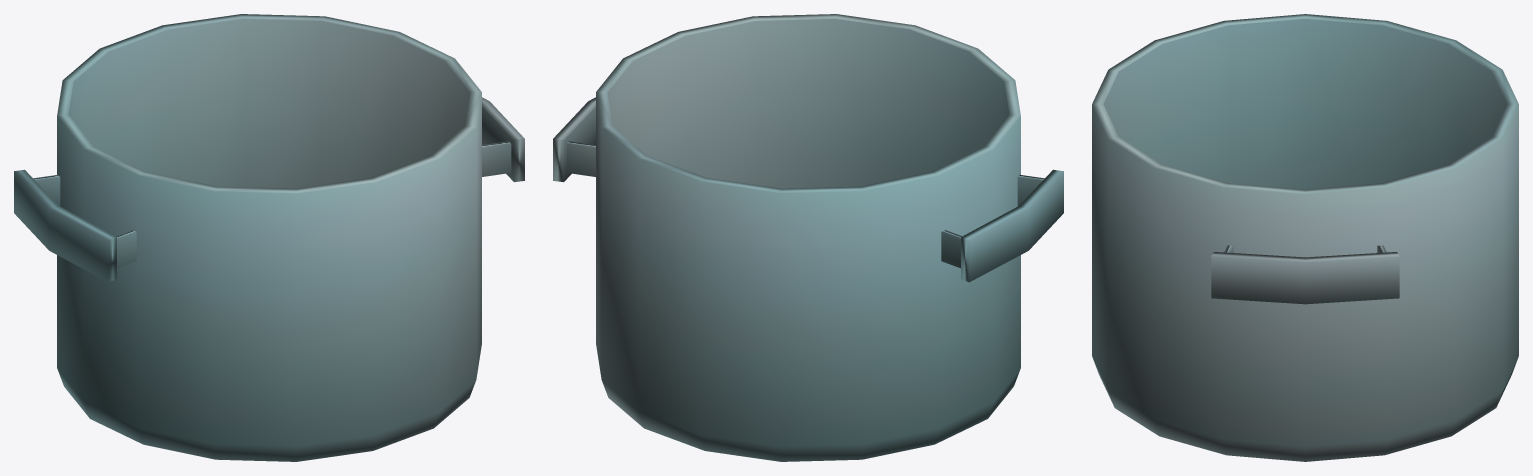
The model's file is pot.fbx.
The picture shows the model from 3 angles, left to right: view 1: azimuth 30°, elevation 25°; view 2: azimuth 150°, elevation 25°; view 3: azimuth 270°, elevation 25°; orthographic projection.
Visible parts, largest first — view 1: pot; view 2: pot; view 3: pot.
Boxes of the visible parts, <box> form: pot: <box>14,14,524,461</box>; pot: <box>553,14,1063,461</box>; pot: <box>1092,14,1518,461</box>.
Size of the model in its own units: 31.76 by 19.13 by 26.74.
